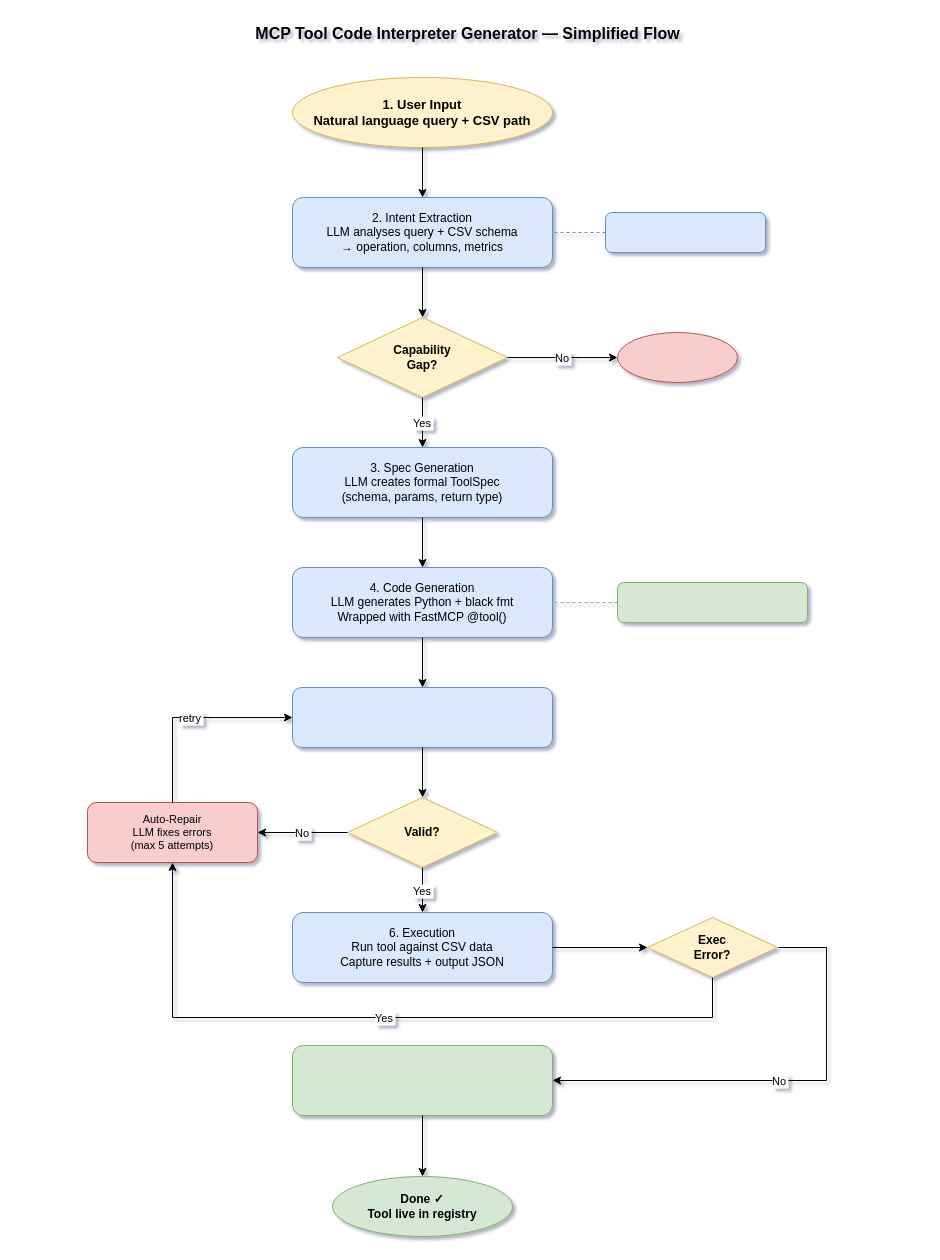
The diagram is 940 pixels wide and 1260 high, and some of its shapes have lost their labels. Each missing label, with the centre of its shape:
"5. Validation Syntax · Schema · Sandbox exec" belongs at point (422, 717).
"7. Promote draft/ → active/ · registry.json Output JSON → output/active/" belongs at point (422, 1080).
"Done (tool exists)" belongs at point (677, 357).
"Qwen 2.5-Coder LLM (via vLLM/Ollama)" belongs at point (685, 232).
"tools/draft/ & tools/active/ output/draft/ & output/active/" belongs at point (712, 602).
